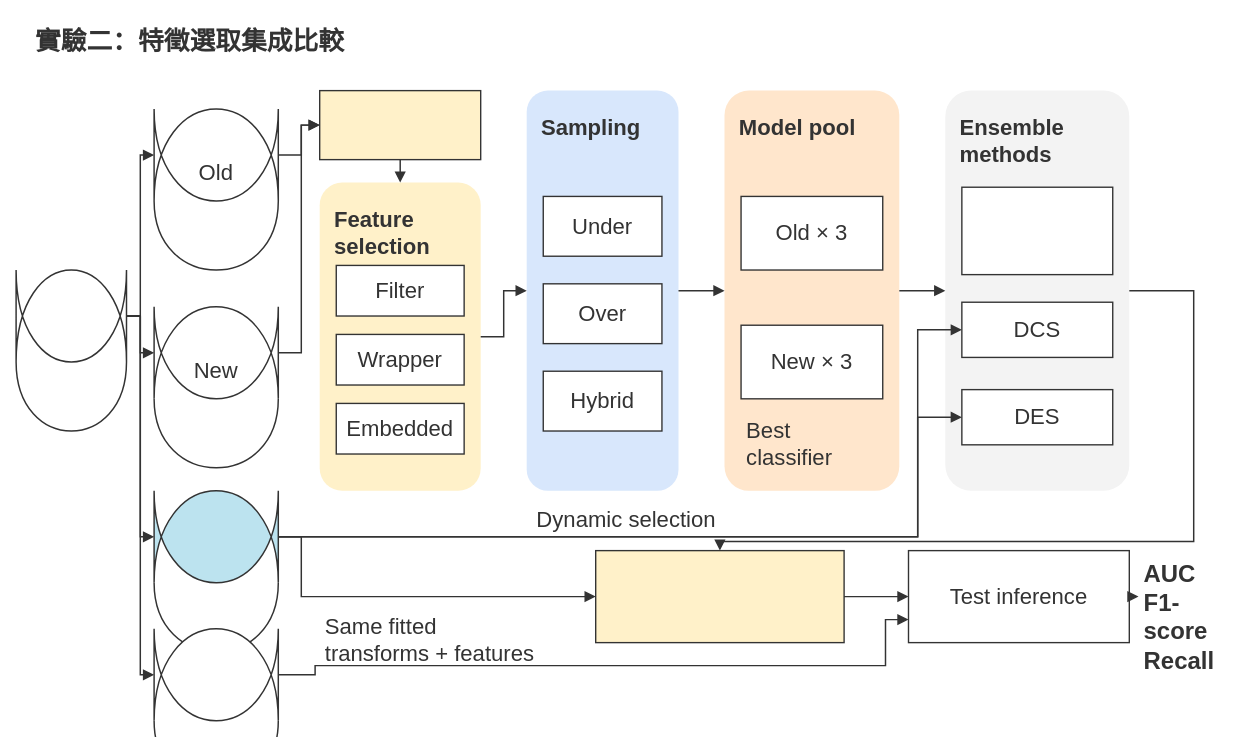
Some shapes in this 1260 by 737 pixel diagram are drawn without their labels. Here are the shapes that lost their labels. From the top down, the centre of each, then its label:
At point (400, 125): "Preprocess".
At point (1037, 230): "Static 49 subsets".
At point (71, 315): "Original Dataset".
At point (216, 536): "Validation".
At point (719, 596): "Validation choices fixed".
At point (216, 674): "Test".
